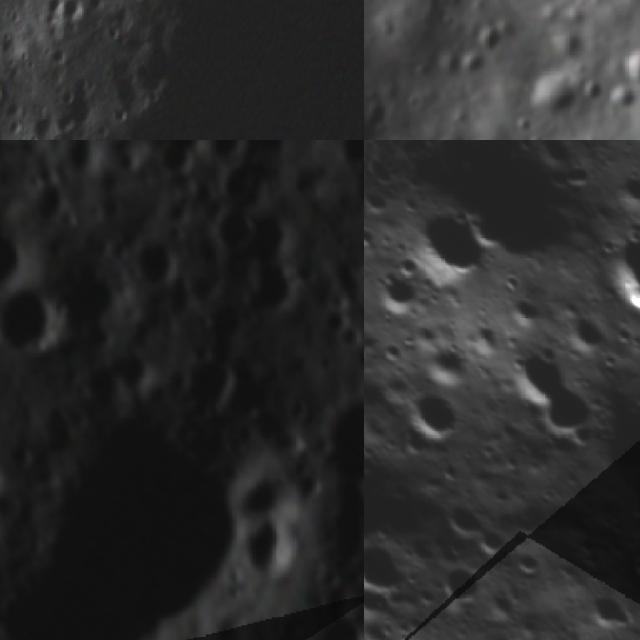crater: (0, 397, 282, 640), (392, 182, 510, 302), (524, 366, 619, 462), (581, 197, 640, 336), (486, 332, 574, 419), (0, 269, 77, 367), (170, 342, 242, 418), (320, 379, 364, 501), (402, 377, 472, 448), (364, 254, 432, 327), (570, 573, 639, 640), (428, 540, 494, 608), (247, 516, 308, 584), (364, 524, 413, 601), (237, 460, 298, 520), (247, 258, 309, 317), (438, 483, 498, 542), (132, 230, 184, 294), (467, 510, 523, 566), (457, 607, 552, 640), (240, 208, 298, 261), (523, 67, 581, 118), (216, 151, 268, 207), (114, 339, 165, 391), (502, 532, 552, 584), (31, 170, 80, 222), (85, 362, 133, 412), (0, 220, 28, 296), (191, 140, 250, 176), (213, 206, 259, 252), (148, 140, 202, 177), (207, 296, 252, 336), (451, 44, 488, 82), (66, 140, 106, 171), (315, 615, 364, 640), (168, 415, 207, 446), (364, 96, 395, 133), (474, 15, 505, 50), (615, 44, 640, 87), (48, 0, 88, 22), (579, 75, 606, 107), (334, 140, 364, 165)
